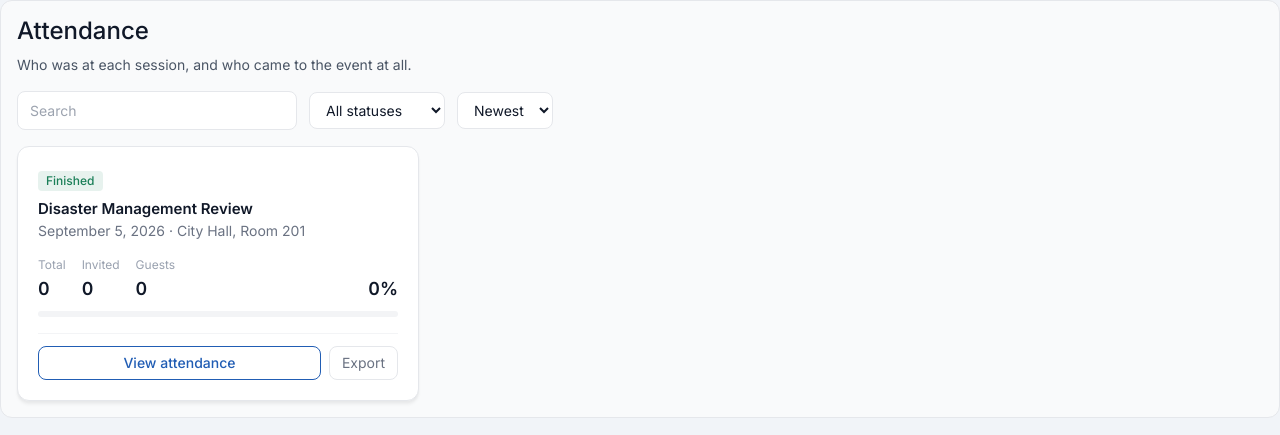
Scenario: the attendance grid › says so plainly when nothing matches
The width and height of the screenshot is (1280, 435).
Check: the heading "Disaster Management Review" is shown, box [38, 199, 253, 218]
In the field named "Search events": (157, 110) [17, 91, 297, 130], type "nothing like this"
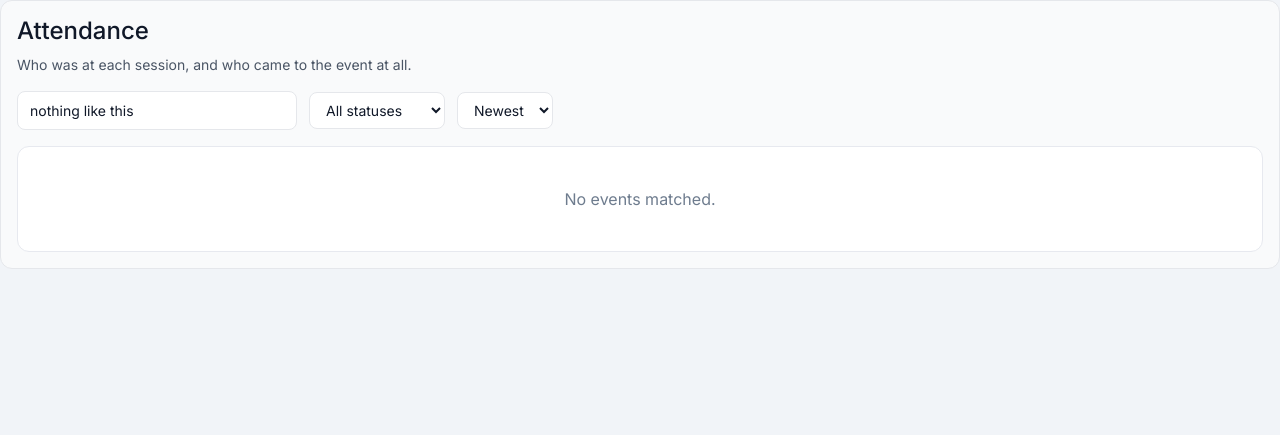
Check: the text "No events matched." is shown, box [564, 189, 716, 209]
